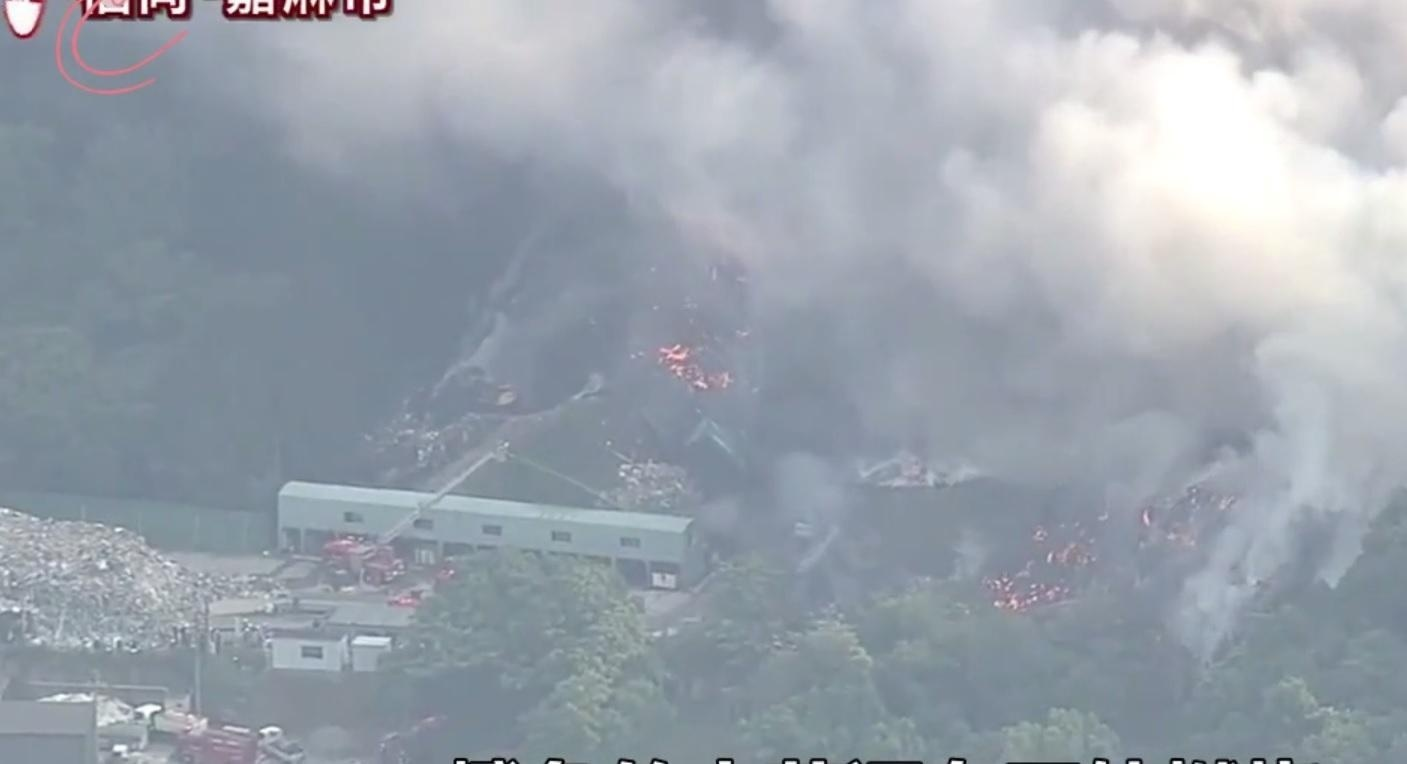fire: (653, 335, 734, 392)
